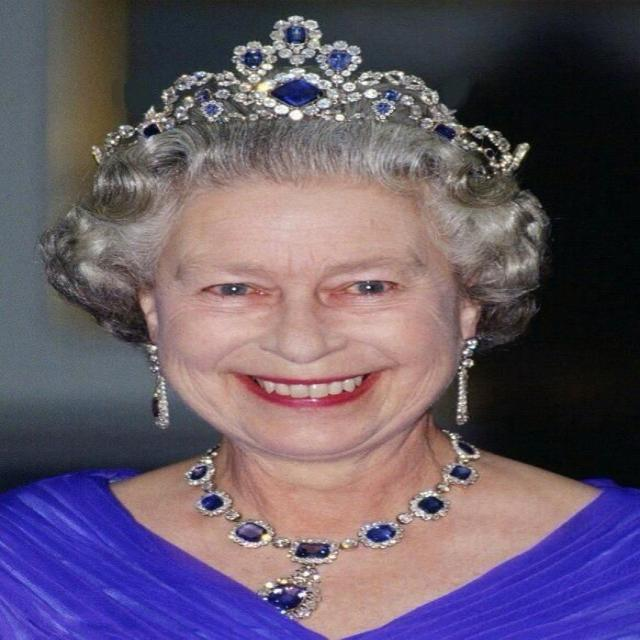Earring: (438, 323, 492, 443), (136, 324, 183, 438)
